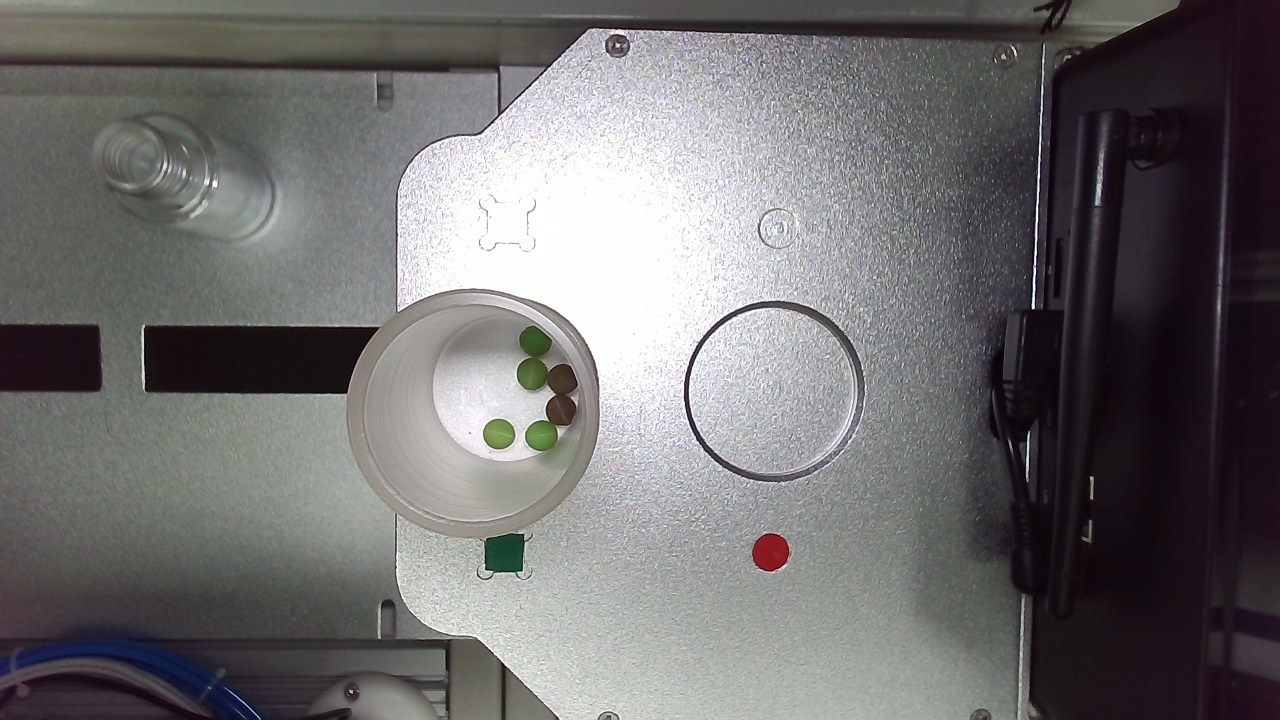XLabel: (469, 67, 535, 133)
YLabel: (896, 57, 969, 130)
none: (338, 200, 667, 533), (797, 188, 1118, 519)
